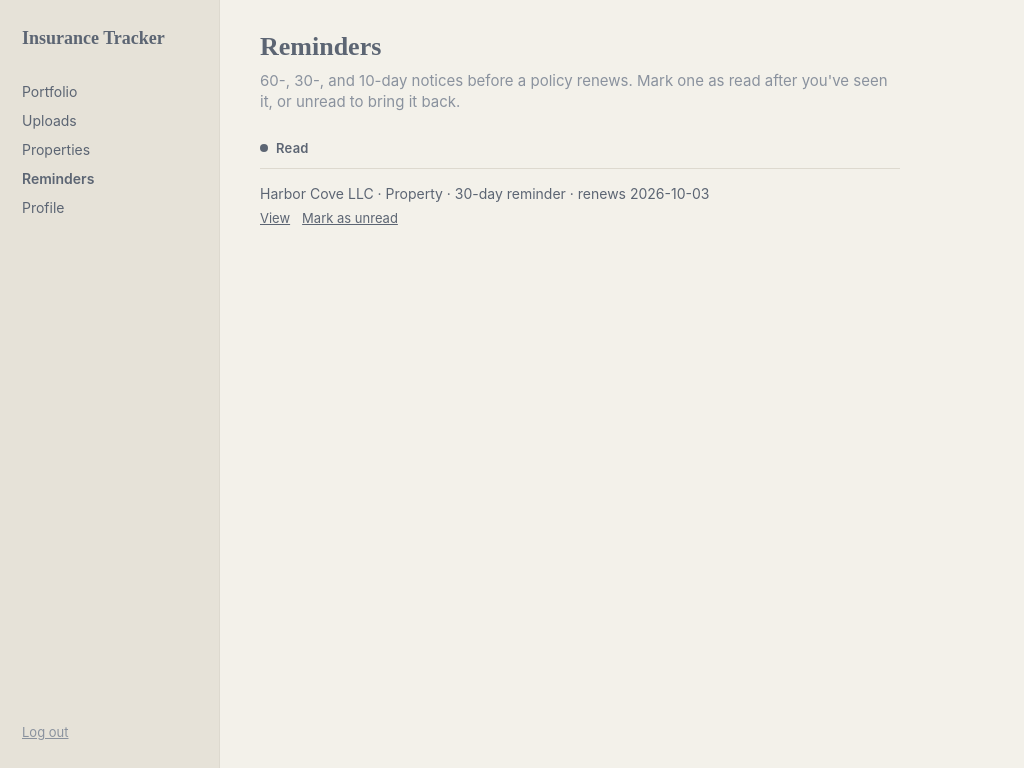
Test case: renewal reminders › mark as unread restores the unread count
This screenshot has width=1024, height=768.
Expected: the heading "Read" is shown, [276,140,309,156]
Expected: the link "Reminders" is shown, [22,170,94,187]
Click the button with aria-label "mark harbor cove llc as unread".
click(350, 218)  # box [302,210,398,226]
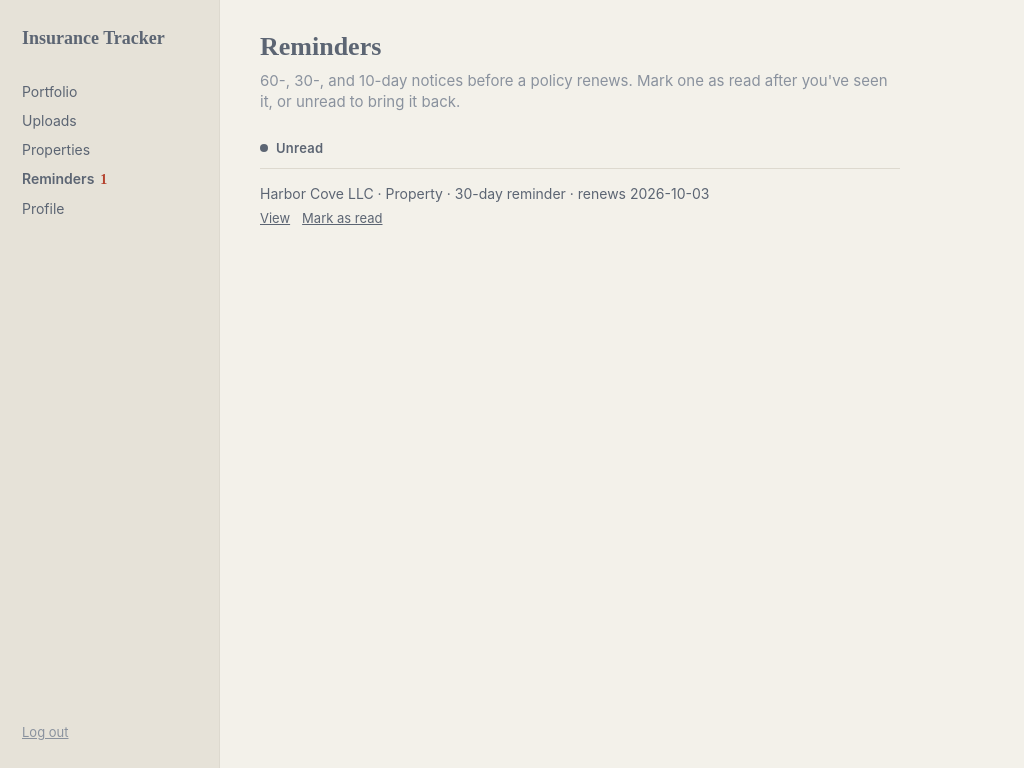
Expected: the heading "Unread" is shown, [276,140,323,156]
Result: the link with aria-label "reminders, 1 unread" is shown at [22,170,107,187]
